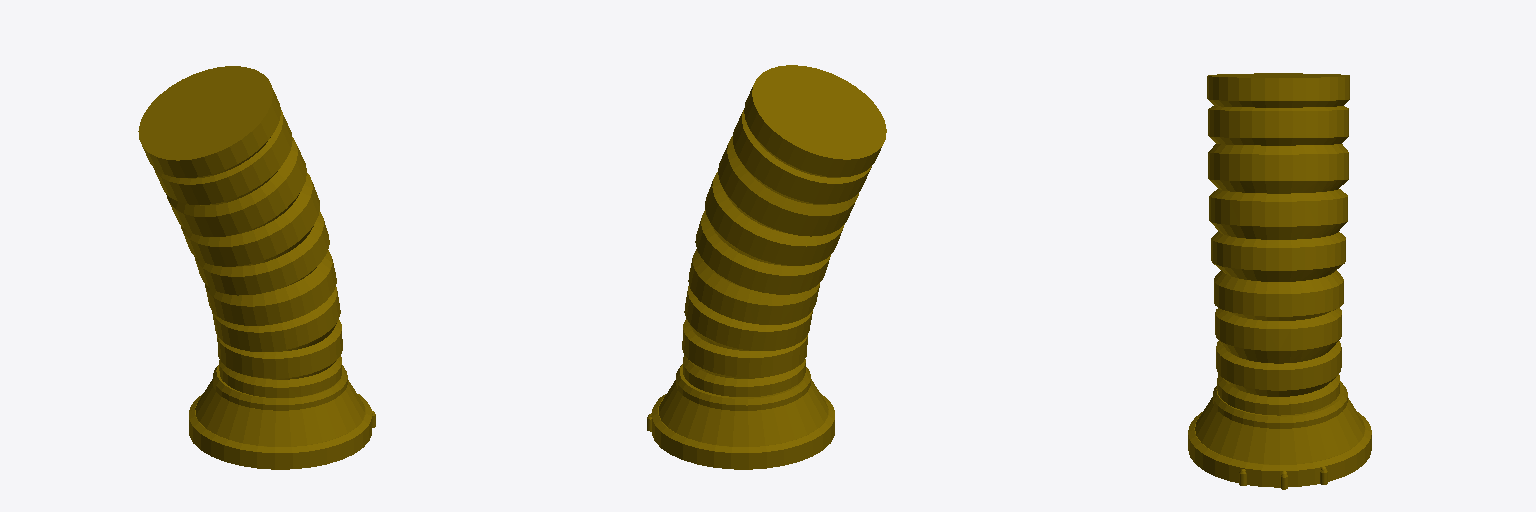
File: goddard_pata02.obj
The picture shows the model from 3 angles: view 1: azimuth 30°, elevation 25°; view 2: azimuth 150°, elevation 25°; view 3: azimuth 270°, elevation 25°; orthographic projection.
Visible parts, largest first — view 1: goddard_pata02; view 2: goddard_pata02; view 3: goddard_pata02.
Part boxes in pixels (x1,y1,x2,y2): goddard_pata02: (138,66,375,469); goddard_pata02: (647,65,886,469); goddard_pata02: (1188,73,1371,489).
Bounding box in the file's own units: 1.39 × 2.24 × 1.03.